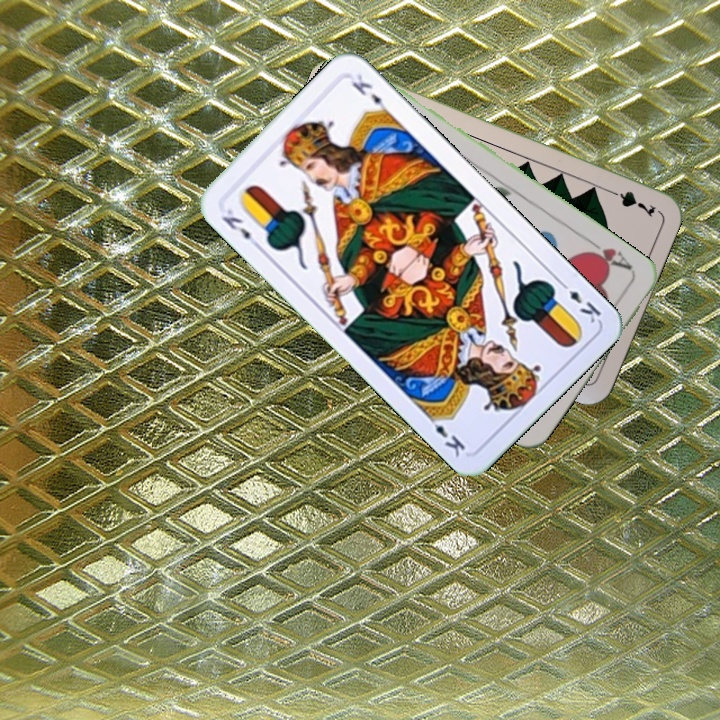EK: (555, 276, 604, 326), (217, 204, 264, 251)
G7: (602, 185, 659, 220)
HA: (579, 235, 635, 273)
